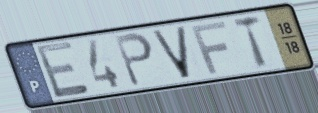4: (87, 37, 124, 91)
E: (32, 39, 93, 102)
F: (188, 19, 230, 76)
P: (112, 30, 156, 89)
T: (230, 13, 271, 71)
V: (148, 24, 193, 81)
